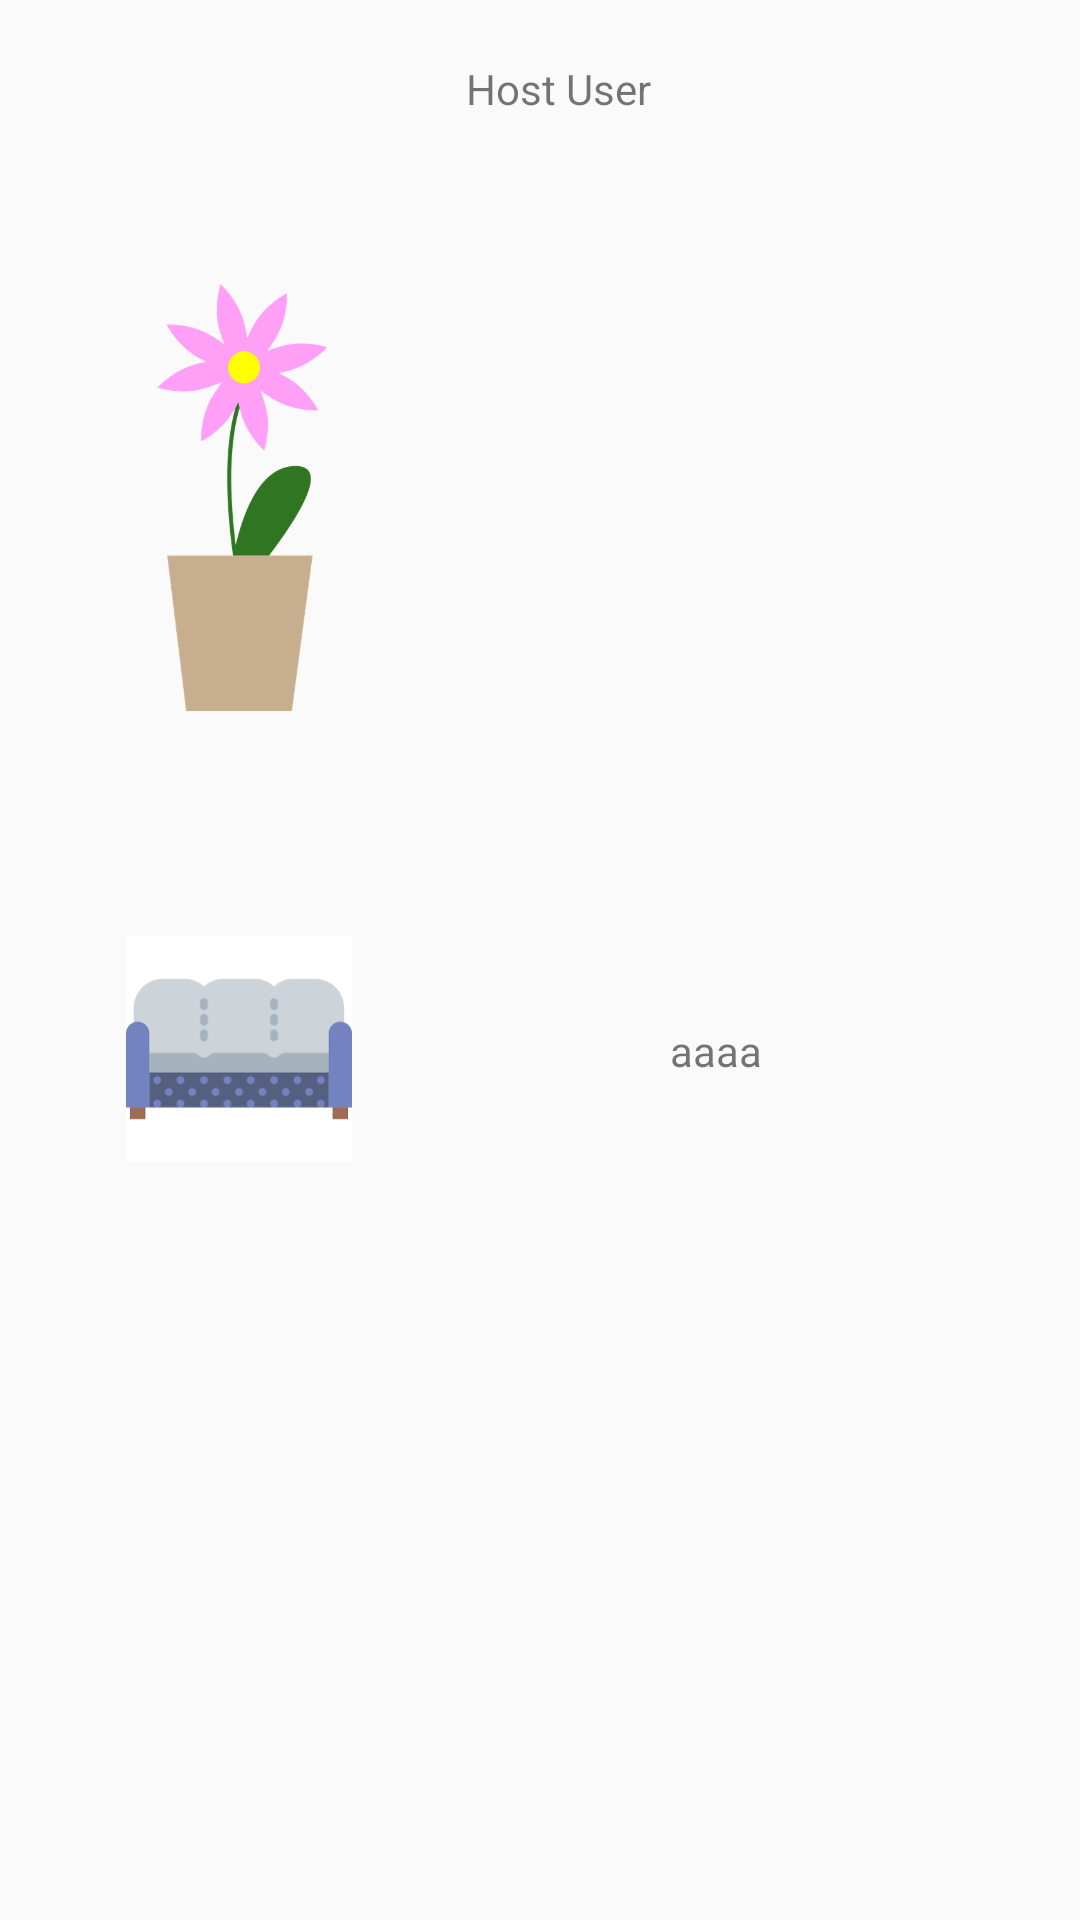

Where icons sit on this 1080 × 1920 app screen, as (x1,y1,x2,y2):
sofa: (126,979,352,1120)
